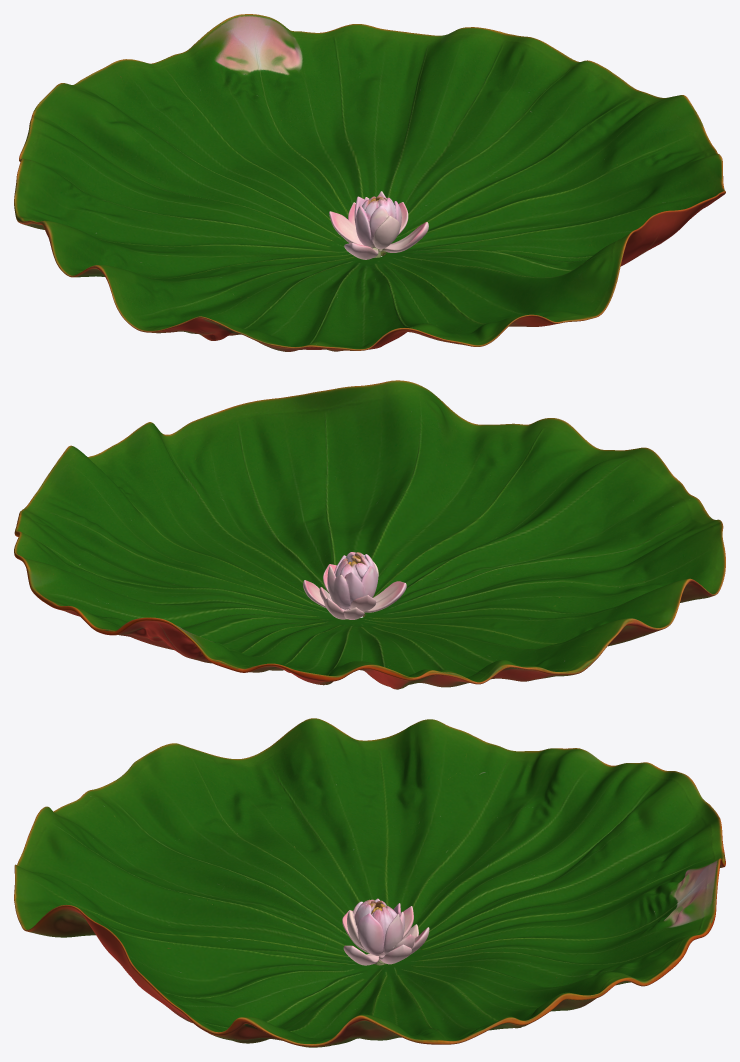
File: lily_pad_realistic_raw.glb
3 renders of one model, top to bottom at view 1: azimuth 30°, elevation 25°; view 2: azimuth 150°, elevation 25°; view 3: azimuth 270°, elevation 25°, orthographic. The views are drawn at different scales.
Size of the model in its own units: 1.9 by 0.3418 by 1.85.
1 material, 1 textured.
